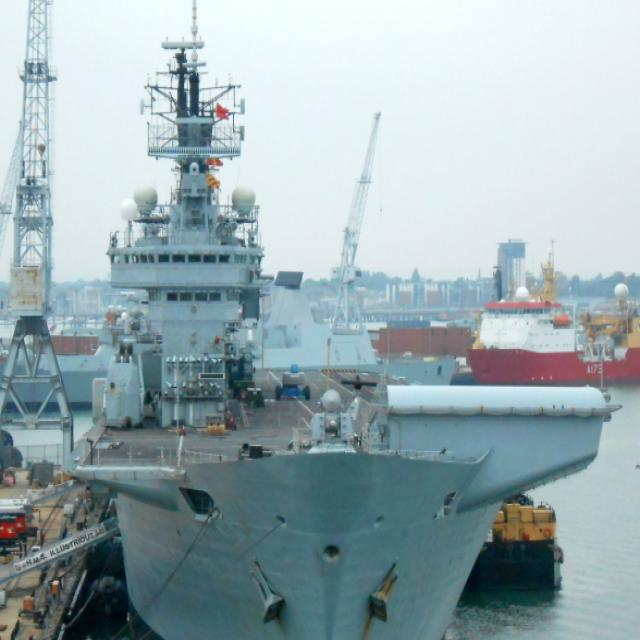Portanaves: (69, 1, 608, 640)
